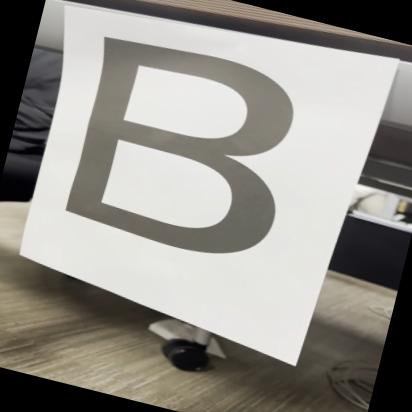seat: (38, 20, 326, 285)
